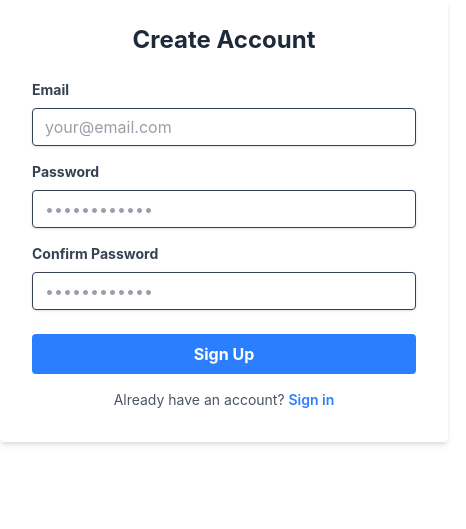
Test: RegisterForm › validates email format
Type "test@invalid" into the field labelled "Email" at (224, 127), box [32, 108, 416, 146]
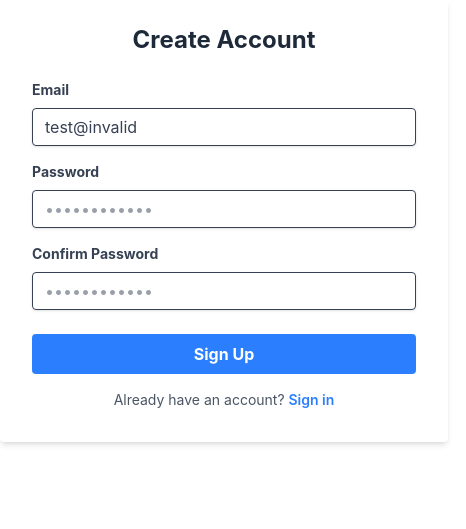
Type "ValidPassword123!" into the password field labelled "Password" at (224, 209), box [32, 190, 416, 228]
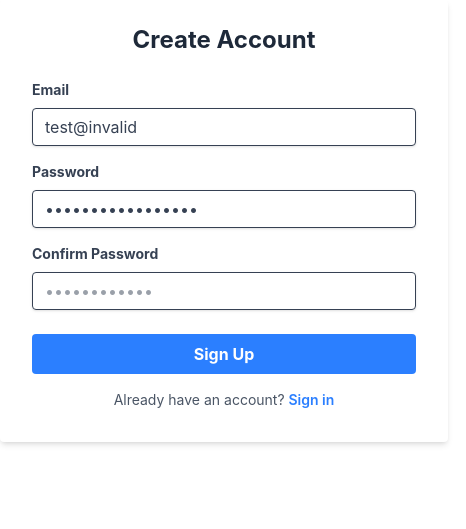
Type "ValidPassword123!" into the password field labelled "Confirm Password" at (224, 291), box [32, 272, 416, 310]
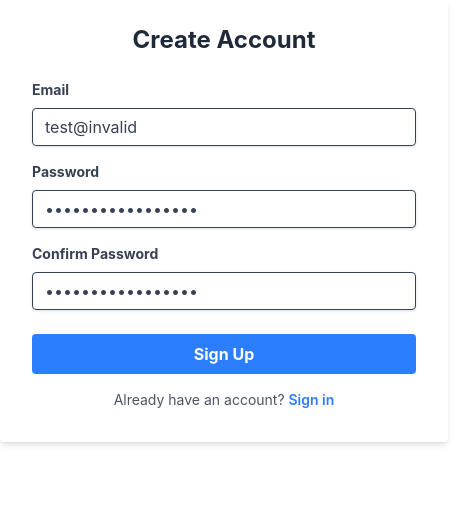
Click the button "Sign Up" at (224, 354), box [32, 334, 416, 374]
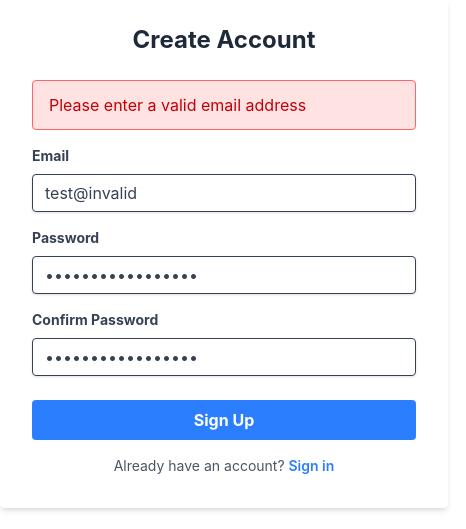
Expected: the text "Please enter a valid email address" is shown, [32, 80, 416, 130]
